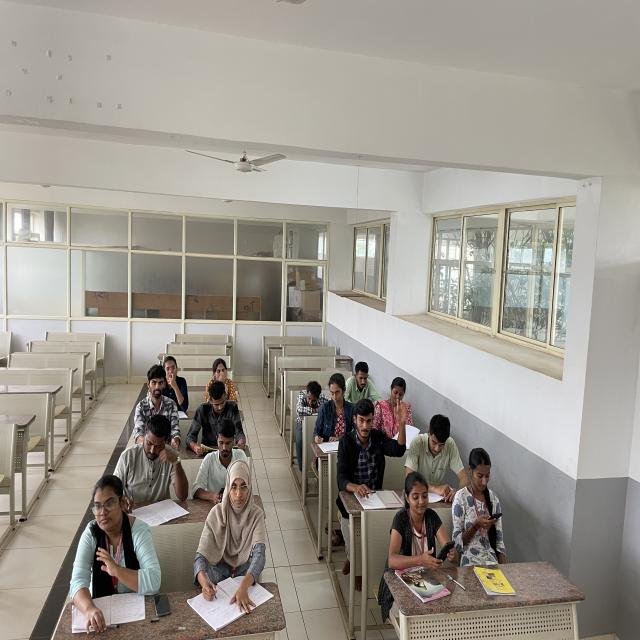Hand Rising: (126, 361, 184, 423)
Reading: (70, 473, 166, 622)
Sleeping: (296, 381, 336, 417)
Using Phone: (384, 466, 457, 569), (456, 442, 519, 548), (194, 419, 251, 506), (199, 355, 245, 398)
Writing: (197, 460, 270, 599), (116, 418, 188, 526), (310, 372, 352, 452)
